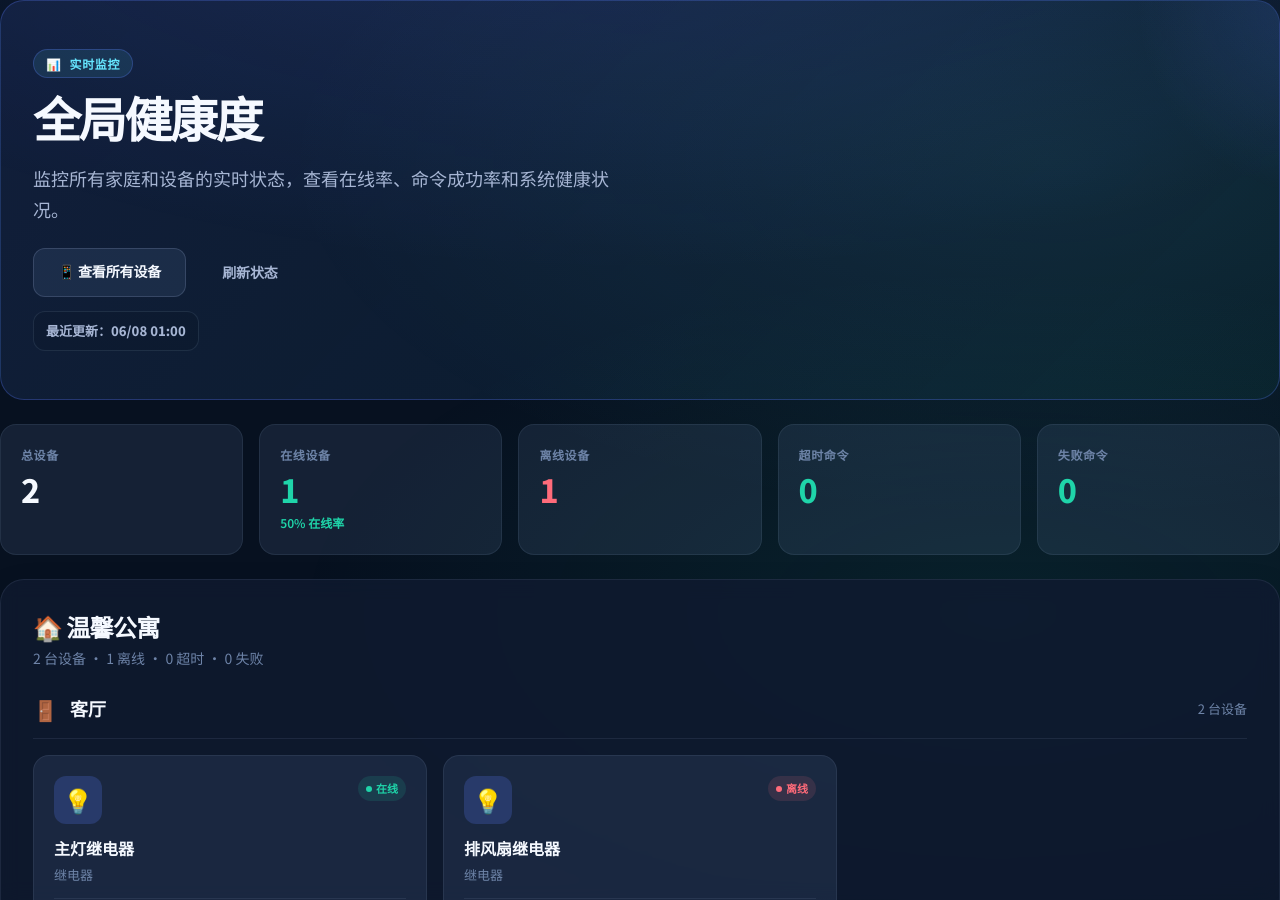
Scenario: HomesClient › keeps the last snapshot visible when manual refresh fails
Step 1. Click the button "刷新状态" → x=250, y=272, box [198, 248, 302, 297]
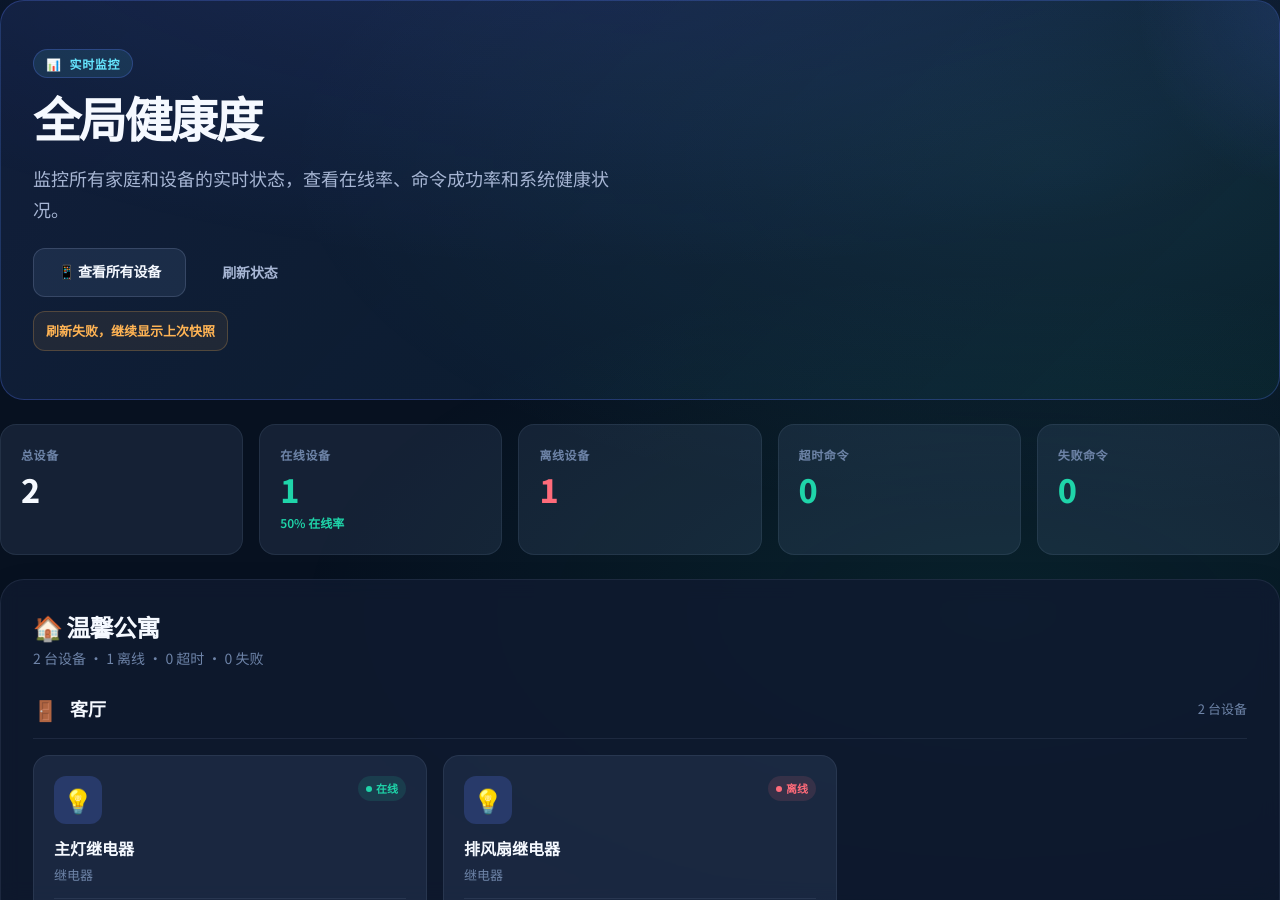
Expected: the text "排风扇继电器" is shown, [464, 836, 560, 860]
Expected: the message reads "刷新失败，继续显示上次快照", [46, 321, 215, 340]
